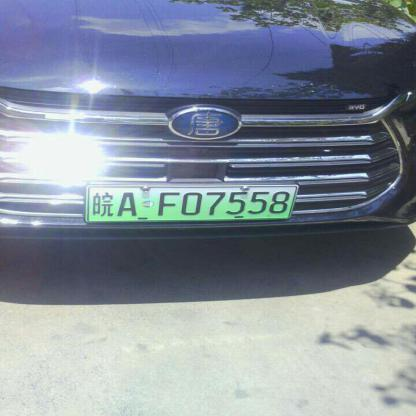lp: (87, 185, 294, 220)
